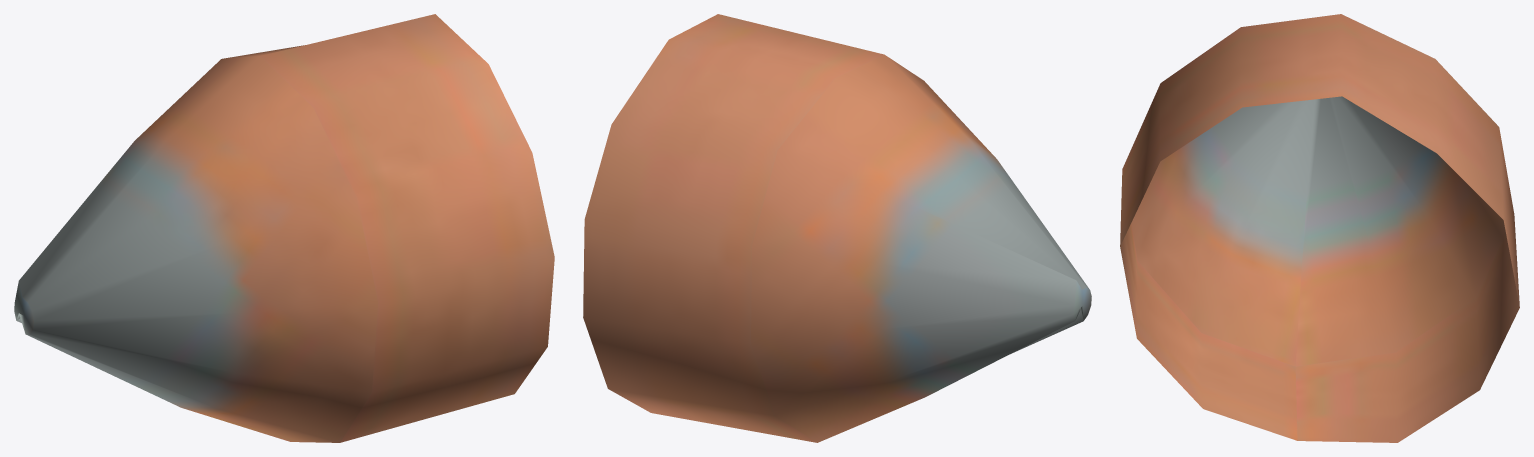
Rendered from BulletModel.fbx.
3 views of the same model, side by side, from view 1: azimuth 30°, elevation 25°; view 2: azimuth 150°, elevation 25°; view 3: azimuth 270°, elevation 25° (orthographic). The views are drawn at different scales.
Parts seen in each view (by area): view 1: 10_l.001; view 2: 10_l.001; view 3: 10_l.001.
Boxes of the visible parts, x1,y1,x2,y2 form: 10_l.001: (14,14,554,442); 10_l.001: (583,14,1091,442); 10_l.001: (1120,14,1519,442).
Size of the model in its own units: 13.86 by 11.31 by 11.62.
